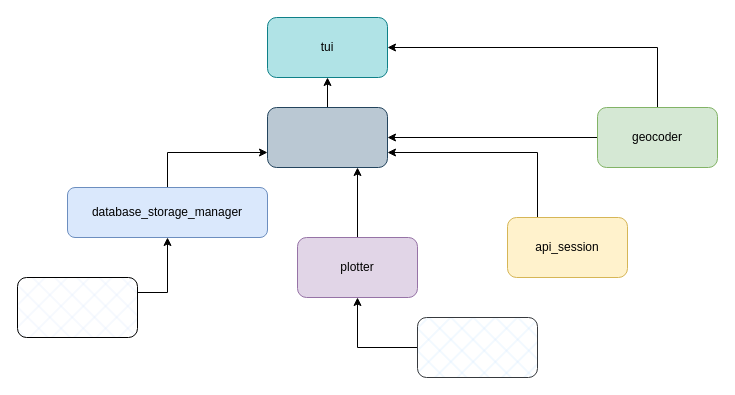
This 735x395 diagram has some shape labels left out. Each missing label, with the box of its shape:
database_orm: (16, 276, 138, 338)
helpers: (416, 316, 538, 378)
my_weather_app: (266, 106, 388, 168)
